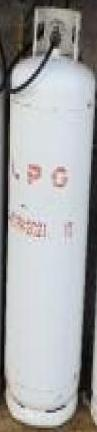cylinder: (1, 1, 97, 432)
